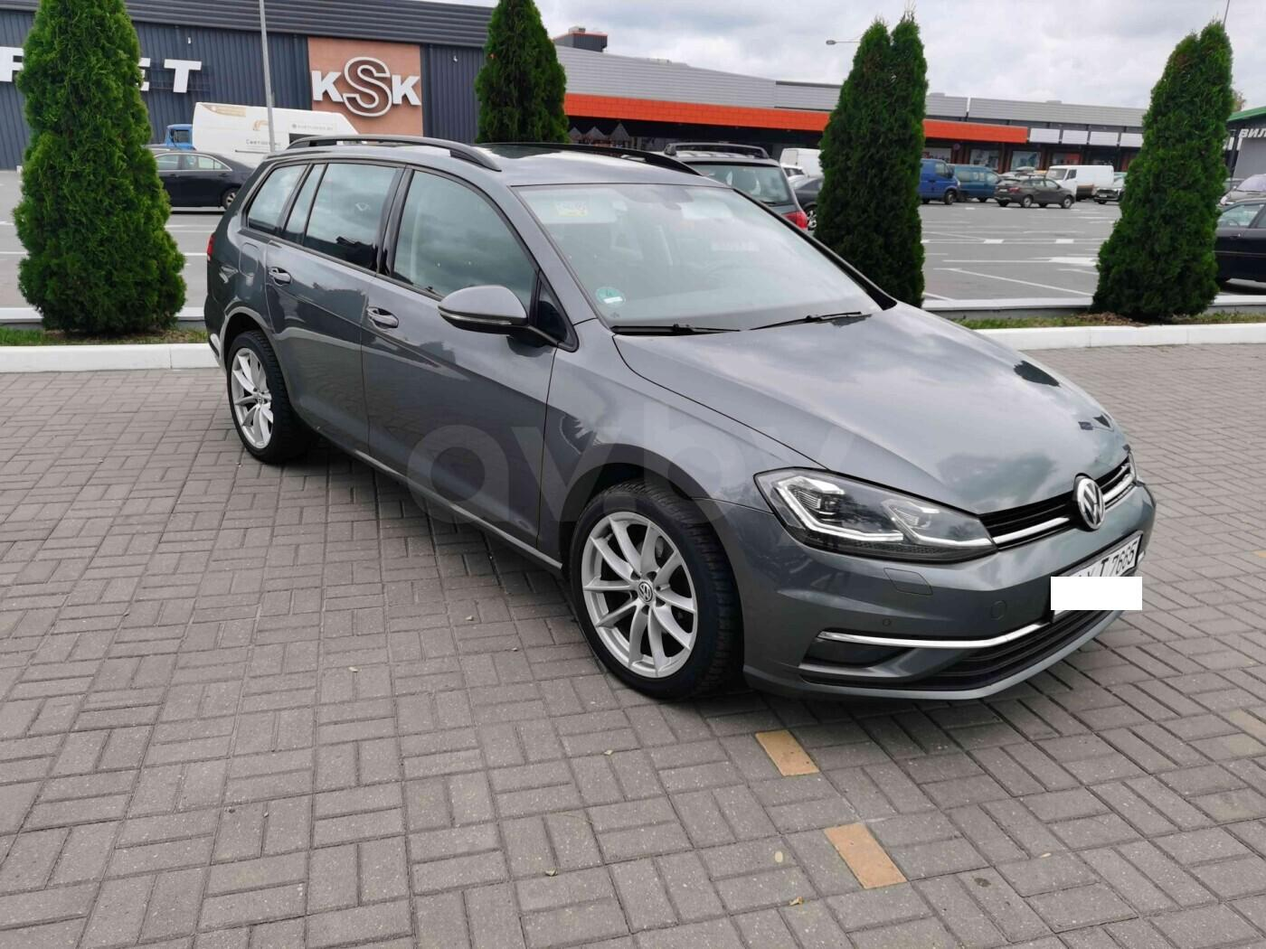Golf_2017-2021: (203, 127, 1159, 715)
